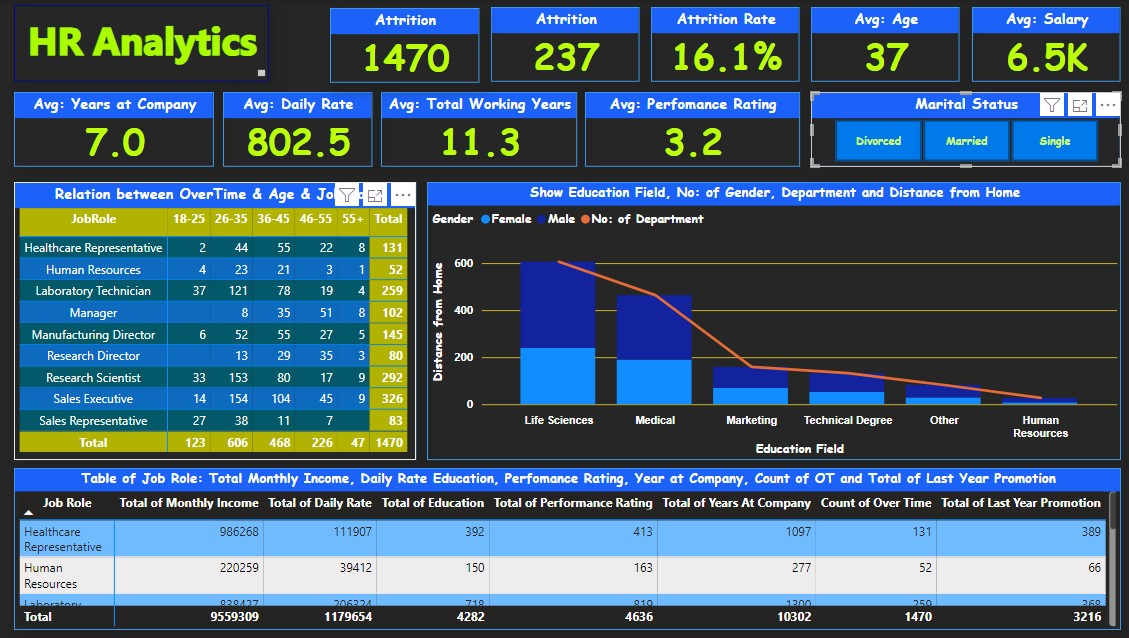

This screenshot's page, from the dashboard's own definition file:
{"tool":"powerbi","page":{"name":"Page 1","canvas":[1280,720],"ordinal":0},"visuals":[{"type":"textbox","title":"HR Analytics","box":[25.9,14.6,283.4,85.5],"z":0},{"type":"card","title":"Attrition","fields":{"Values":["Sum(Project_3_HR_Analytics.AttritionCount)"]},"box":[555.1,17,165.3,83.2],"z":1000},{"type":"card","title":"Attrition Rate","fields":{"Values":["Project_3_HR_Analytics.AttritionRate"]},"box":[733.4,17,165.3,83.2],"z":2000},{"type":"card","title":"Avg: Age","fields":{"Values":["Avg(Project_3_HR_Analytics.Age)"]},"box":[911.6,16.9,165.3,83.2],"z":3000},{"type":"card","title":"Avg: Salary","fields":{"Values":["Avg(Project_3_HR_Analytics.MonthlyIncome)"]},"box":[1089.9,16.9,165.3,83.2],"z":4000},{"type":"card","title":"Avg: Years at Company","fields":{"Values":["Avg(Project_3_HR_Analytics.YearsAtCompany)"]},"box":[25.5,111.2,222.4,83.4],"z":5000},{"type":"slicer","title":"Marital Status","fields":{"Values":["Project_3_HR_Analytics.MaritalStatus"]},"box":[911.6,111.2,344,83.4],"z":6000},{"type":"card","title":"Avg: Daily Rate","fields":{"Values":["Avg(Project_3_HR_Analytics.DailyRate)"]},"box":[257.5,111.2,165.6,83.4],"z":7000},{"type":"card","title":"Avg: Total Working Years","fields":{"Values":["Avg(Project_3_HR_Analytics.TotalWorkingYears)"]},"box":[432.8,111.2,217.8,83.4],"z":8000},{"type":"card","title":"Avg: Perfomance Rating","fields":{"Values":["Avg(Project_3_HR_Analytics.PerformanceRating)"]},"box":[660.3,111.2,238.6,83.4],"z":9000},{"type":"card","title":"Attrition","fields":{"Values":["Sum(Project_3_HR_Analytics.EmployeeCount)"]},"box":[376.5,17.4,165.6,83.4],"z":10000},{"type":"pivotTable","title":"Relation between OverTime & Age & Job Role","fields":{"Rows":["Project_3_HR_Analytics.JobRole"],"Columns":["Project_3_HR_Analytics.AgeGroup"],"Values":["CountNonNull(Project_3_HR_Analytics.OverTime)"]},"box":[25.5,210.8,447.1,309.3],"z":11000},{"type":"lineStackedColumnComboChart","title":"Show Education Field, No: of Gender, Department and Distance from Home ","fields":{"Series":["Project_3_HR_Analytics.Gender"],"Category":["Project_3_HR_Analytics.EducationField"],"Y":["CountNonNull(Project_3_HR_Analytics.DistanceFromHome)"],"Y2":["CountNonNull(Project_3_HR_Analytics.Department)"]},"box":[484.2,210.8,771.5,309.3],"z":12000},{"type":"pivotTable","title":"Table of Job Role: Total Monthly Income, Daily Rate Education, Perfomance Rating, Year at Company, Count of OT and Total of Last Year Promotion  ","fields":{"Values":["Sum(Project_3_HR_Analytics.MonthlyIncome)","Sum(Project_3_HR_Analytics.DailyRate)","Sum(Project_3_HR_Analytics.Education)","Sum(Project_3_HR_Analytics.PerformanceRating)","Sum(Project_3_HR_Analytics.YearsAtCompany)","CountNonNull(Project_3_HR_Analytics.OverTime)","Sum(Project_3_HR_Analytics.YearsSinceLastPromotion)"],"Rows":["Project_3_HR_Analytics.JobRole"]},"box":[25.5,529.4,1230.2,179.5],"z":13000}]}

Visuals, with their boxes in screenshot pixels (x1, y1, x2, y2), scaled from the page's 1280x720 canvas onto the 1129x638 screenshot:
"HR Analytics" textbox: 23 13 273 89
"Attrition" card: 490 15 635 89
"Attrition Rate" card: 647 15 793 89
"Avg: Age" card: 804 15 950 89
"Avg: Salary" card: 961 15 1107 89
"Avg: Years at Company" card: 22 99 219 172
"Marital Status" slicer: 804 99 1107 172
"Avg: Daily Rate" card: 227 99 373 172
"Avg: Total Working Years" card: 382 99 574 172
"Avg: Perfomance Rating" card: 582 99 793 172
"Attrition" card: 332 15 478 89
"Relation between OverTime & Age & Job Role" pivotTable: 22 187 417 461
"Show Education Field, No: of Gender, Department and Distance from Home " lineStackedColumnComboChart: 427 187 1108 461
"Table of Job Role: Total Monthly Income, Daily Rate Education, Perfomance Rating, Year at Company, Count of OT and Total of Last Year Promotion  " pivotTable: 22 469 1108 628
